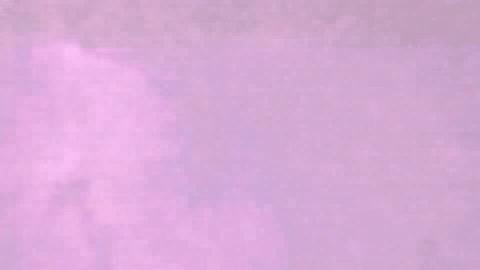tomato: (99, 56, 477, 268), (3, 127, 97, 269)
